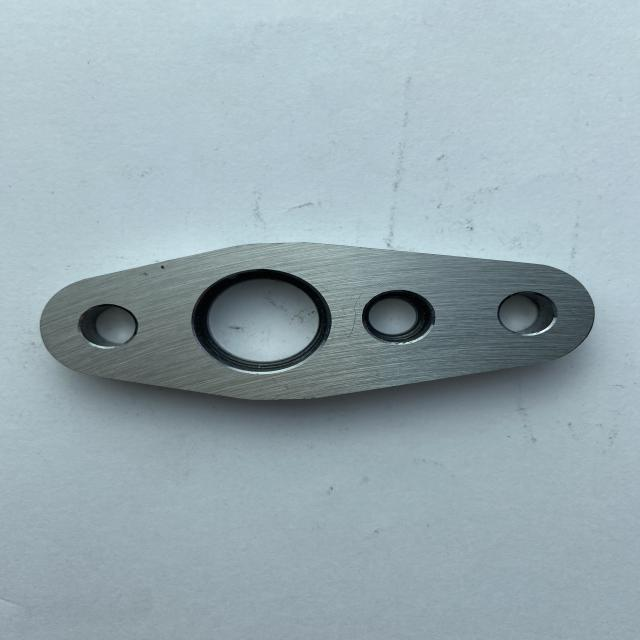chap: (159, 264, 167, 270), (377, 282, 383, 286), (198, 346, 204, 350), (369, 296, 374, 300)
lines: (349, 289, 360, 339), (136, 271, 156, 278)
